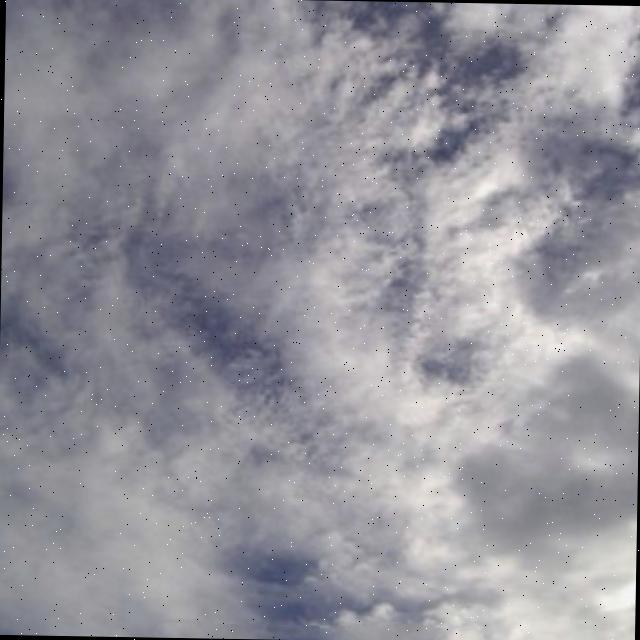Cc: (1, 1, 640, 603)
